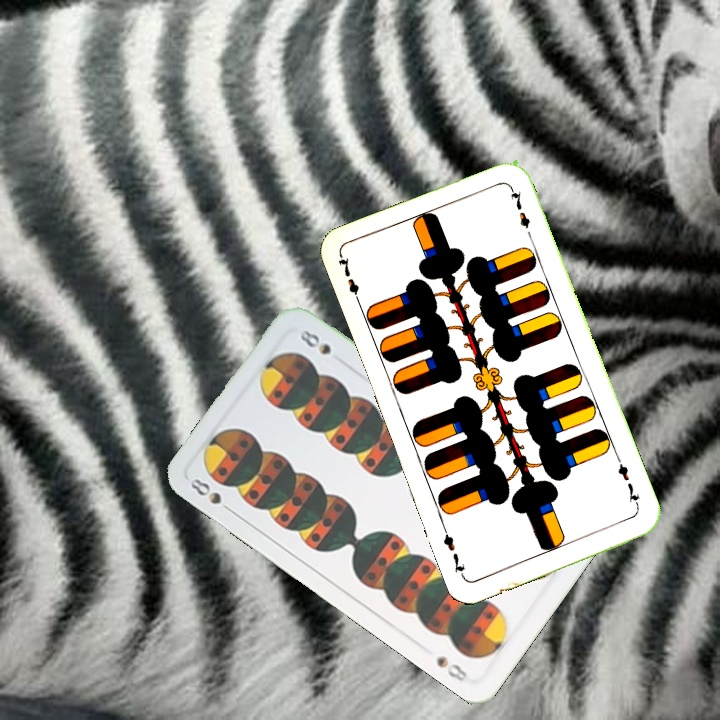E7: (334, 252, 364, 309), (613, 455, 643, 511)
S8: (186, 474, 237, 516)
